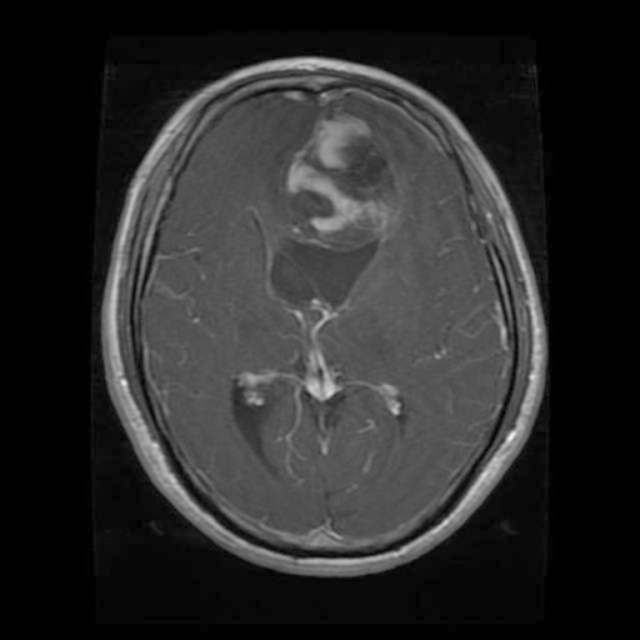pituitary tumor: (297, 115, 393, 233)
